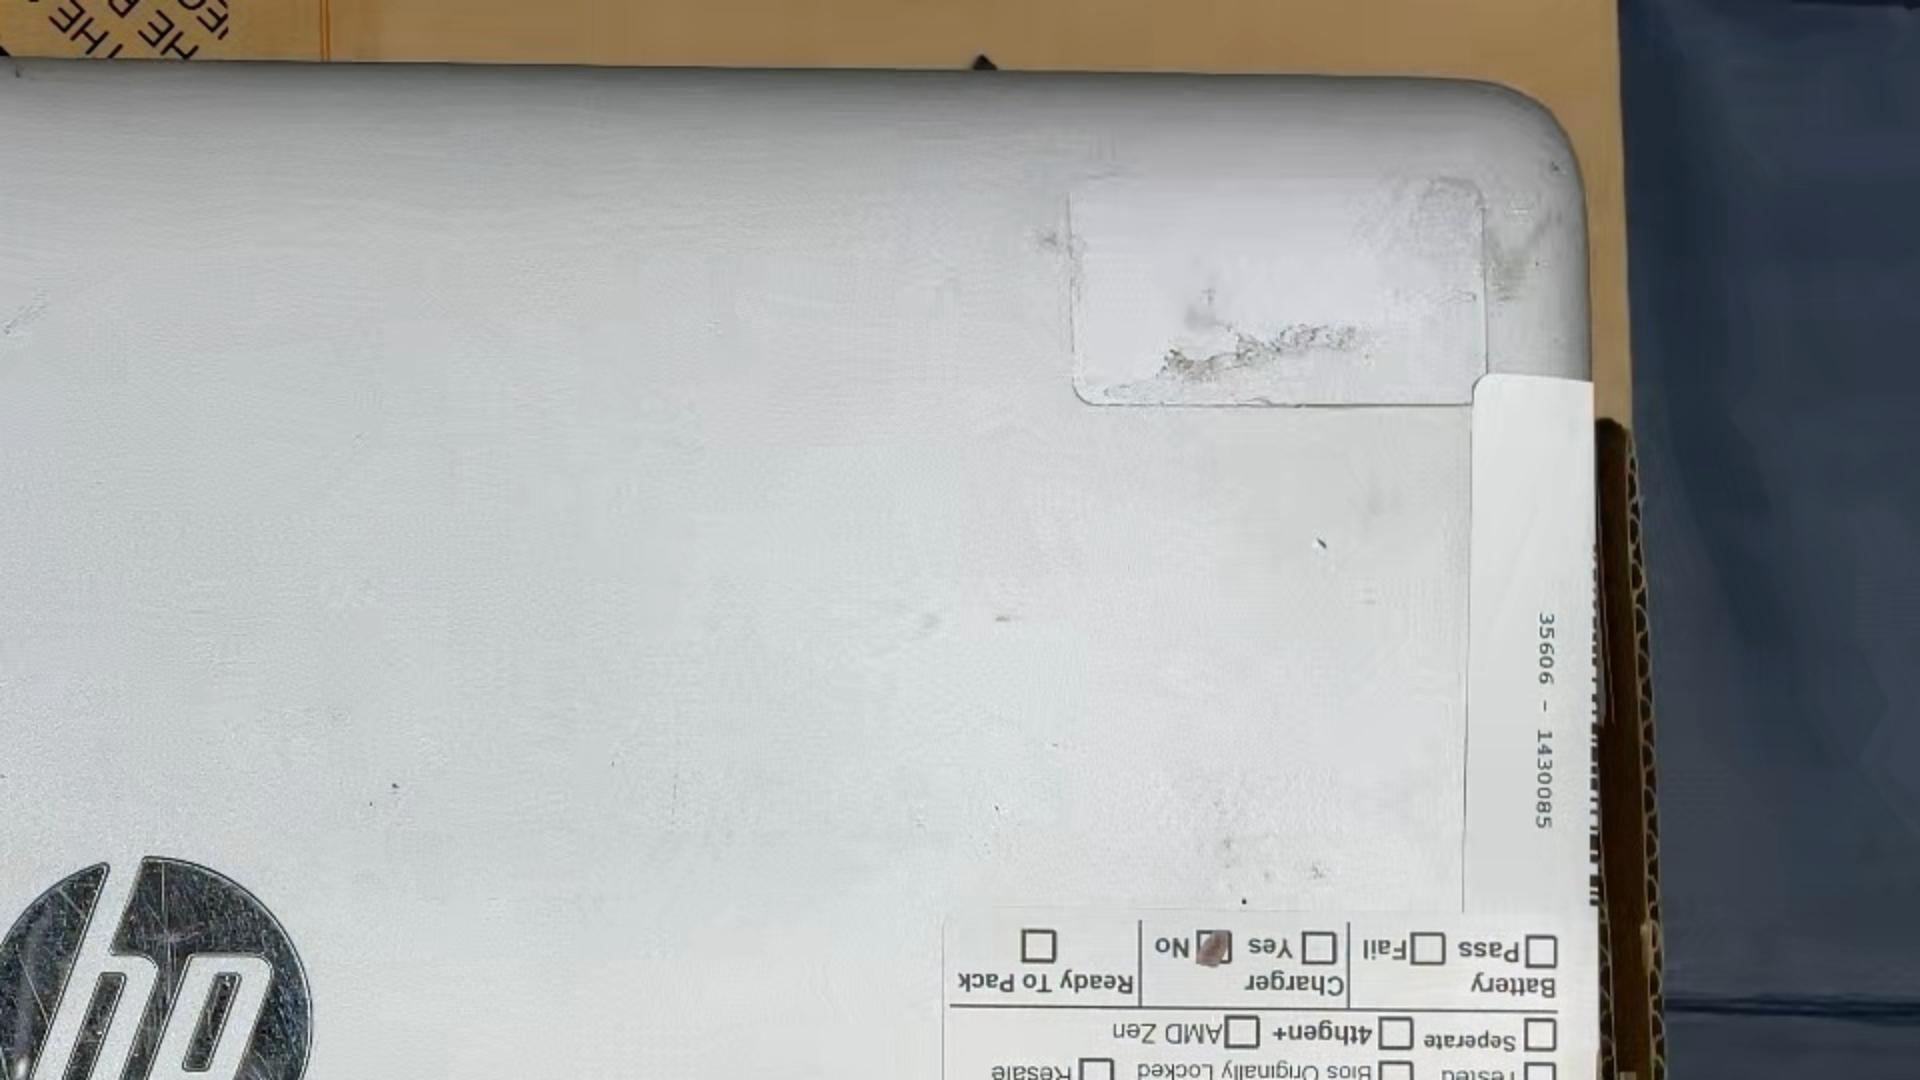chip: (1237, 892, 1254, 907)
scratches: (11, 937, 51, 1028), (52, 885, 89, 925), (0, 1034, 13, 1080), (165, 939, 173, 1008), (210, 979, 223, 1016), (159, 858, 166, 915), (205, 1005, 215, 1044), (246, 1061, 266, 1080), (1313, 533, 1332, 552)
